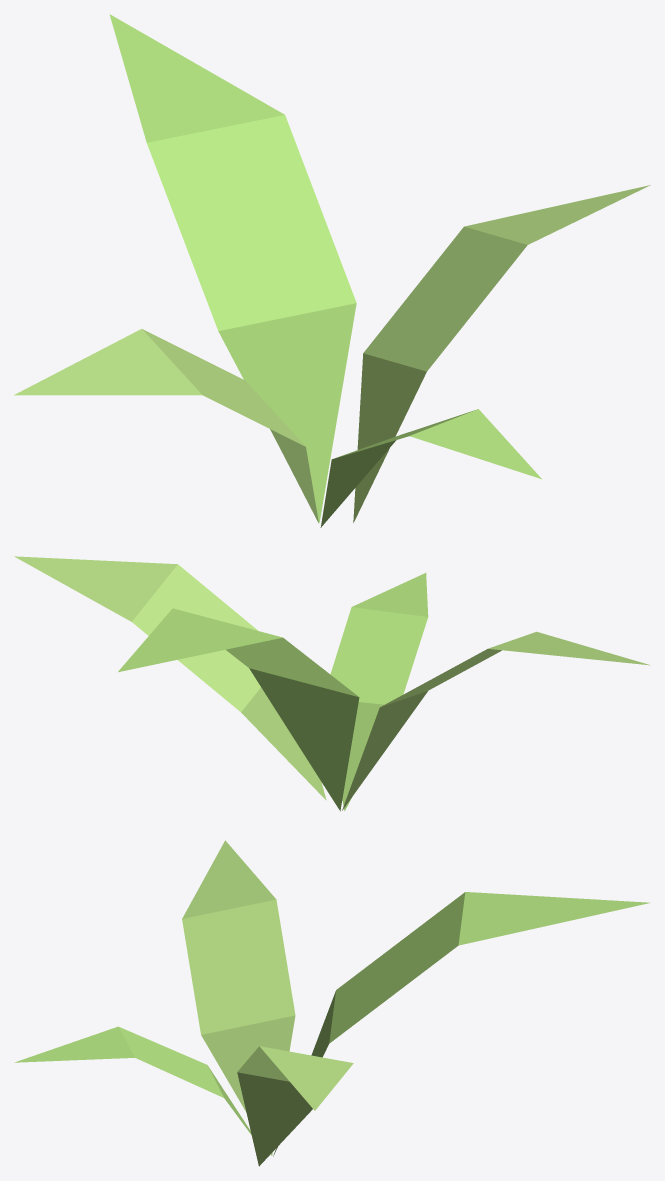
File: Plant_b_TwoS_05.fbx
The picture shows the model from 3 angles, top to bottom: view 1: azimuth 30°, elevation 25°; view 2: azimuth 150°, elevation 25°; view 3: azimuth 270°, elevation 25°; orthographic projection. The views are drawn at different scales.
Parts seen in each view (by area): view 1: Plant_b_TwoS_05; view 2: Plant_b_TwoS_05; view 3: Plant_b_TwoS_05.
Boxes of the visible parts, x1=… form: Plant_b_TwoS_05: x1=14, y1=14, x2=650, y2=527; Plant_b_TwoS_05: x1=14, y1=556, x2=650, y2=811; Plant_b_TwoS_05: x1=14, y1=840, x2=650, y2=1166.
Bounding box in the file's own units: 0.9268 × 0.4245 × 0.9215.
